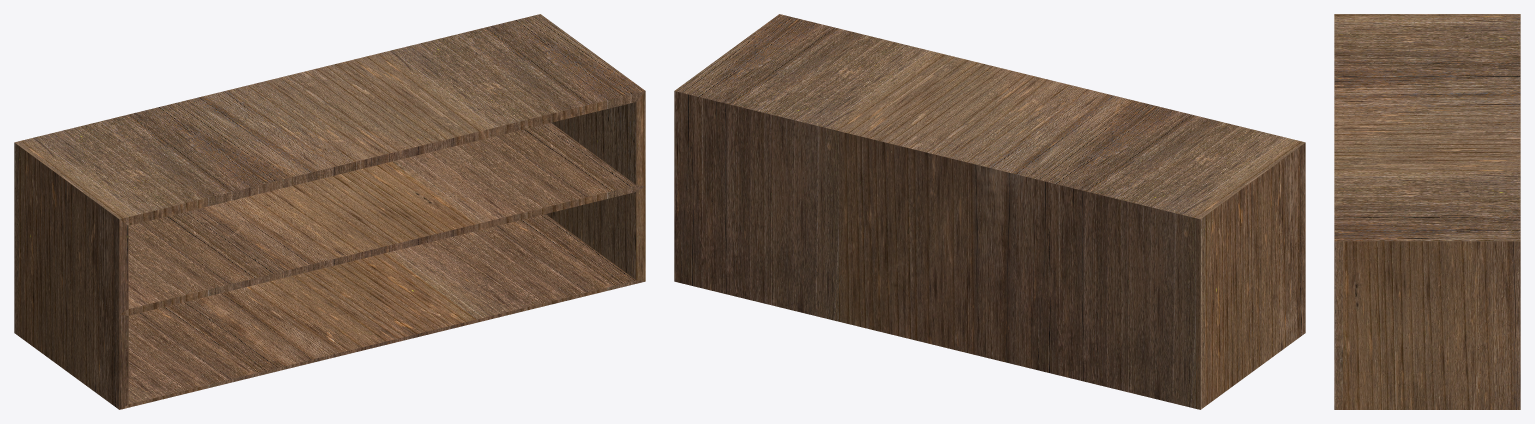
The model's file is Kärpänen_TVPöytä.fbx.
3 renders of one model, left to right at view 1: azimuth 30°, elevation 25°; view 2: azimuth 150°, elevation 25°; view 3: azimuth 270°, elevation 25°, orthographic. The views are drawn at different scales.
Parts seen in each view (by area): view 1: Cube.030; view 2: Cube.030; view 3: Cube.030.
Boxes of the visible parts, x1,y1,x2,y2 form: Cube.030: (14, 14, 645, 409); Cube.030: (674, 14, 1305, 409); Cube.030: (1334, 14, 1520, 409).
Size of the model in its own units: 3466 by 1200 by 1200.
Materials: 1 (1 with a texture image).
